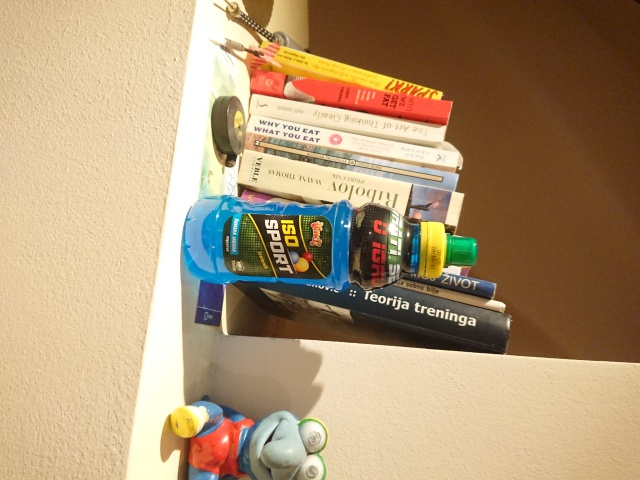Vindi Iso Sport Forest Strawberries 500mL: (180, 193, 480, 293)
